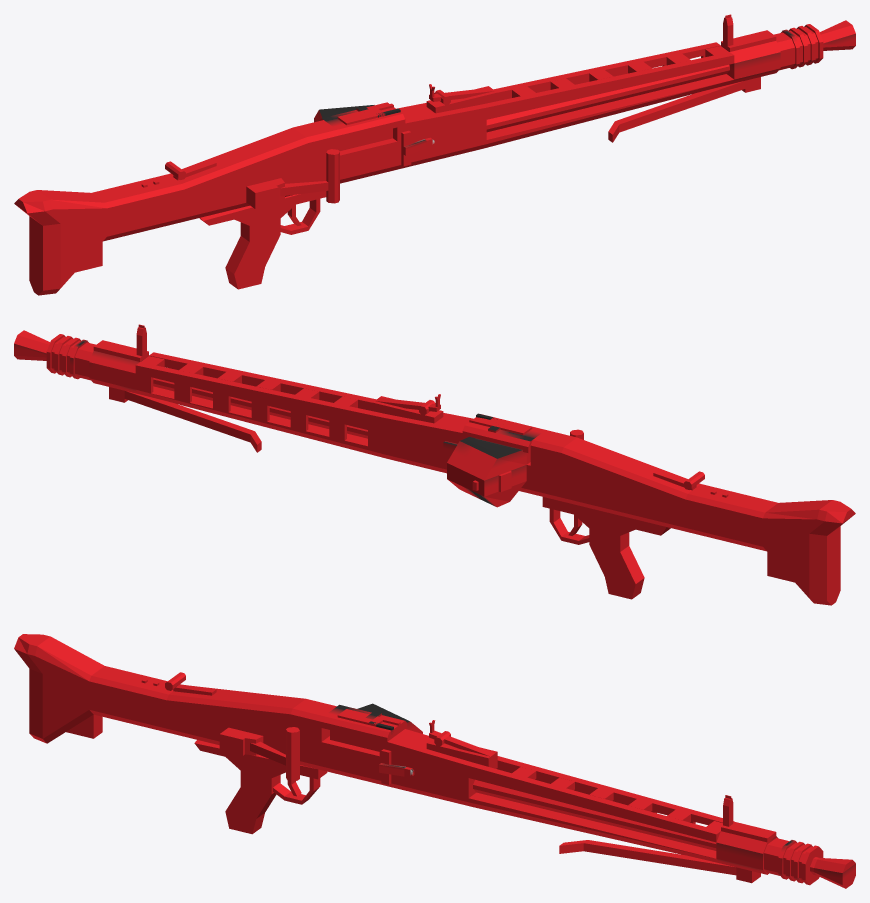
File: ModelMG42.obj
3 views of the same model, one above another, from view 1: azimuth 30°, elevation 25°; view 2: azimuth 150°, elevation 25°; view 3: azimuth 330°, elevation 25° (orthographic).
Parts seen in each view (by area): view 1: gunModel, breakActionModel; view 2: gunModel, breakActionModel; view 3: gunModel, breakActionModel.
Boxes of the visible parts, box(x1,y1,x2,y2) form: gunModel: box(14, 14, 855, 295); breakActionModel: box(165, 102, 405, 193); gunModel: box(14, 324, 855, 605); breakActionModel: box(462, 413, 704, 503); gunModel: box(14, 634, 855, 888); breakActionModel: box(165, 672, 407, 743).
Bounding box in the file's own units: 53.5 × 9.38 × 7.
